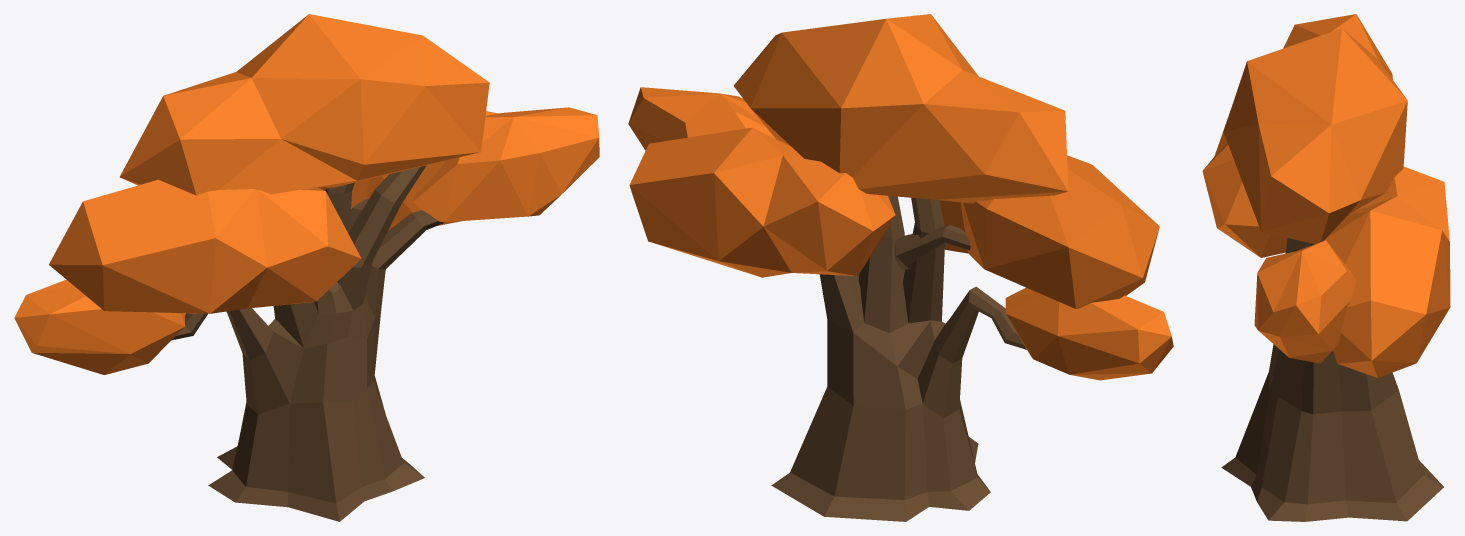
The model's file is tree-baobab_orange.glb.
3 views of the same model, side by side, from view 1: azimuth 30°, elevation 25°; view 2: azimuth 150°, elevation 25°; view 3: azimuth 270°, elevation 25° (orthographic).
Parts seen in each view (by area): view 1: tree-baobab_orange; view 2: tree-baobab_orange; view 3: tree-baobab_orange.
Boxes of the visible parts, bbox=[...] form: tree-baobab_orange: bbox=[14, 14, 599, 521]; tree-baobab_orange: bbox=[628, 14, 1173, 521]; tree-baobab_orange: bbox=[1202, 14, 1450, 521].
Bounding box in the file's own units: 8.1 × 6.37 × 3.15.
Materials: 1 (1 with a texture image).
